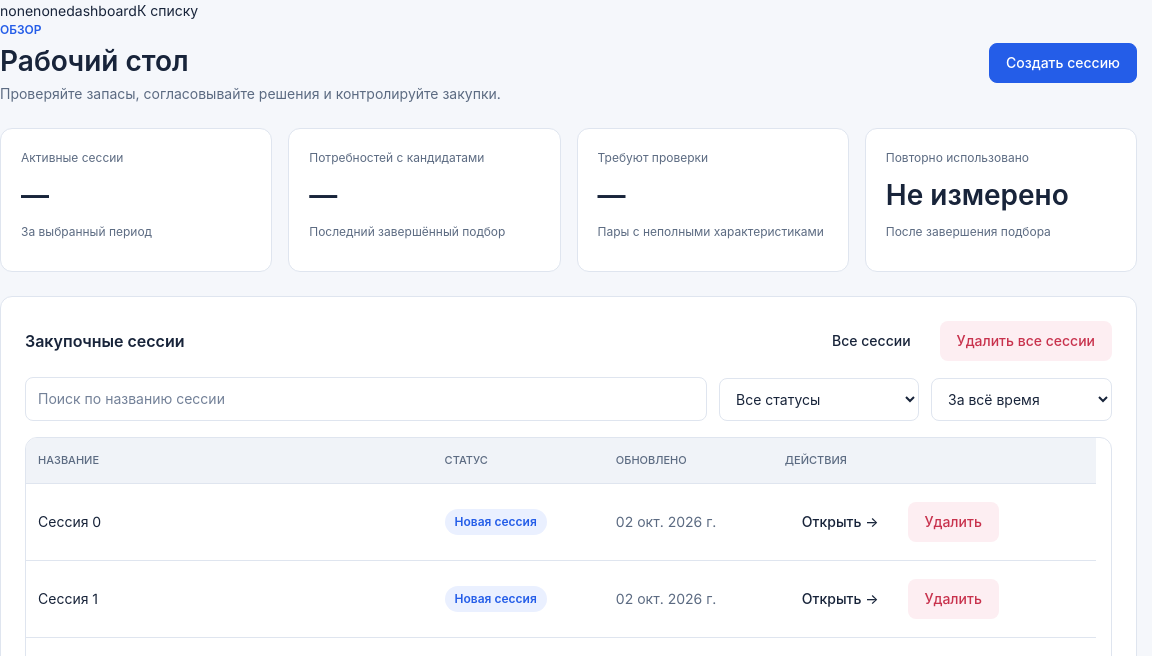
Scenario: session deletion › requires typed confirmation and bulk delete covers hidden pages and filters
expect the text "Сессия 0" is shown: met, box top-left (26, 483), bottom-right (433, 560)
Type "Сессия 0" into the field labelled "Поиск по названию сессии". click: (366, 399)
box: top-left (25, 377), bottom-right (707, 421)
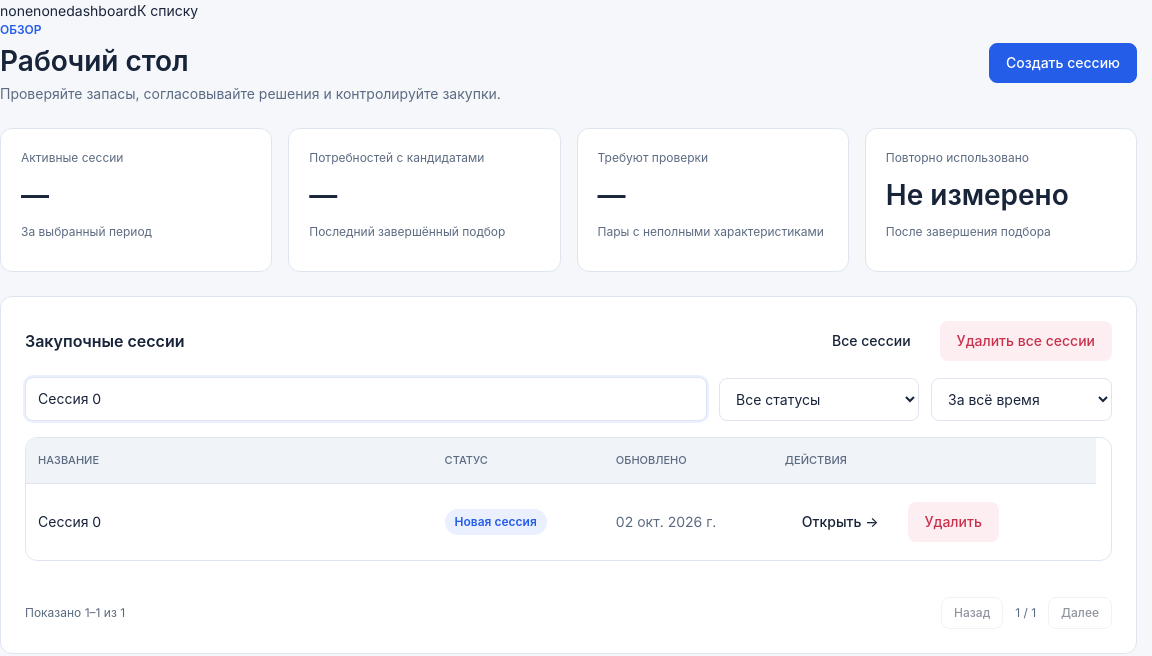
expect the text "Сессия 1" is gone: met
Click the button "Удалить все сессии". click: (1026, 341)
box: top-left (940, 321), bottom-right (1112, 361)
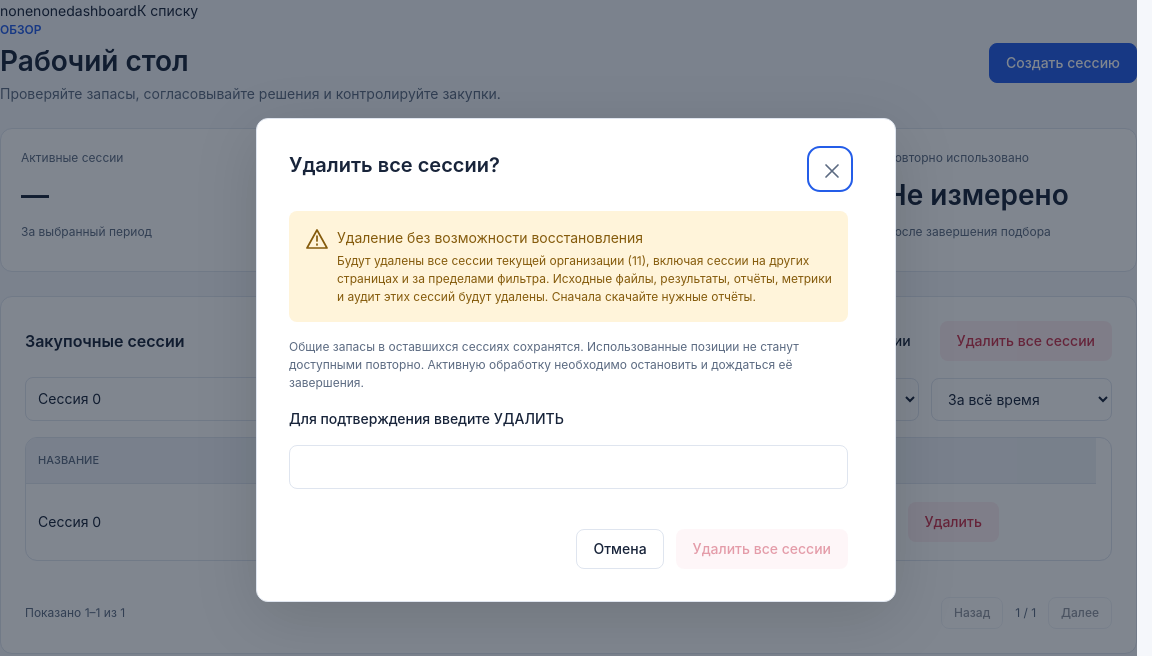
expect the button "Удалить все сессии" is disabled: met, box top-left (676, 529), bottom-right (848, 569)
Type "УДАЛИТЬ" into the field named "Подтверждение удаления всех сессий". click: (568, 467)
box: top-left (289, 445), bottom-right (848, 489)
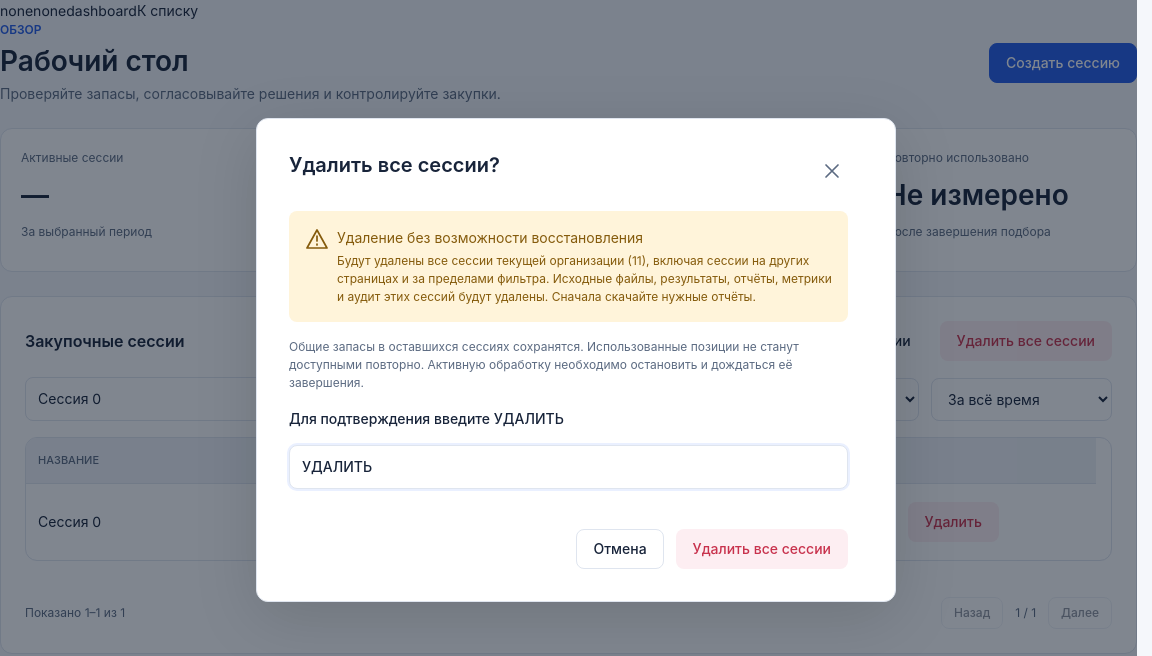
Click the button "Удалить все сессии". click: (762, 549)
box: top-left (676, 529), bottom-right (848, 569)
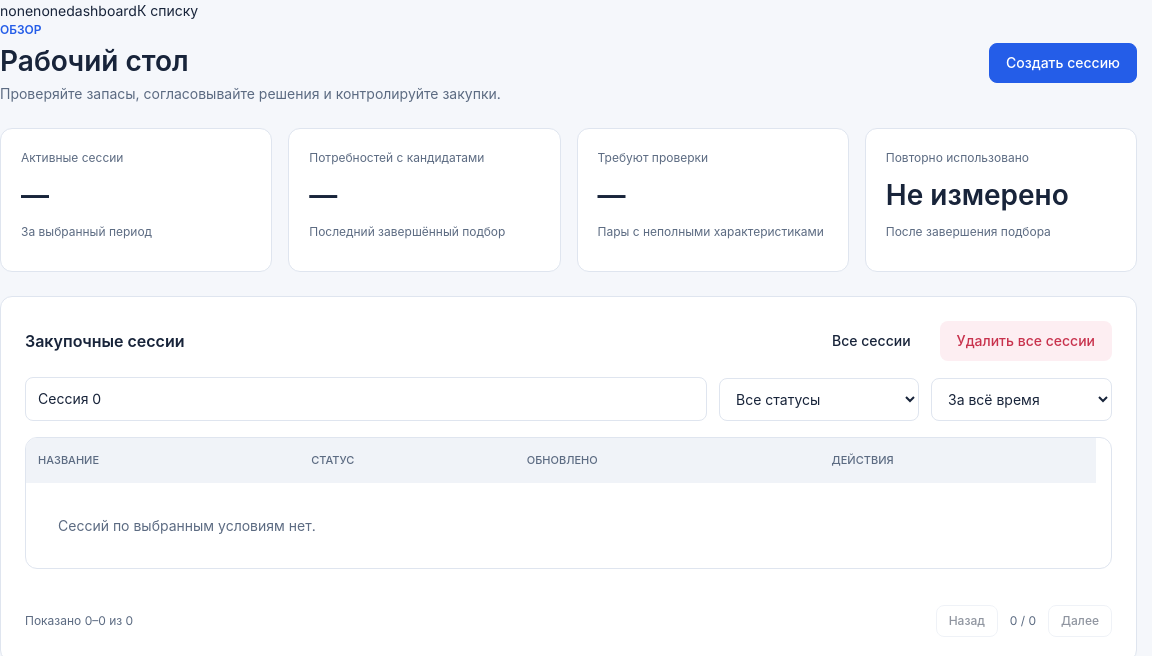
expect the dialog is gone: met
expect the text "Сессий по выбранным условиям нет." is shown: met, box top-left (58, 516), bottom-right (316, 534)
